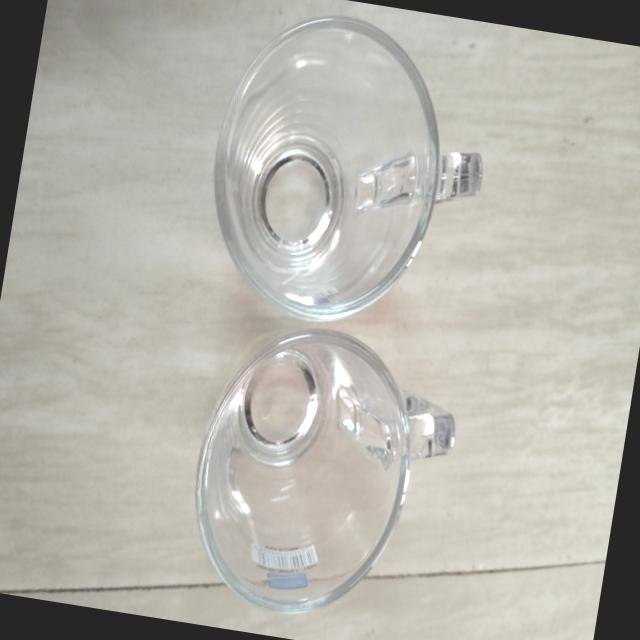glass-VX4N: (191, 1, 500, 341), (174, 313, 467, 640)
